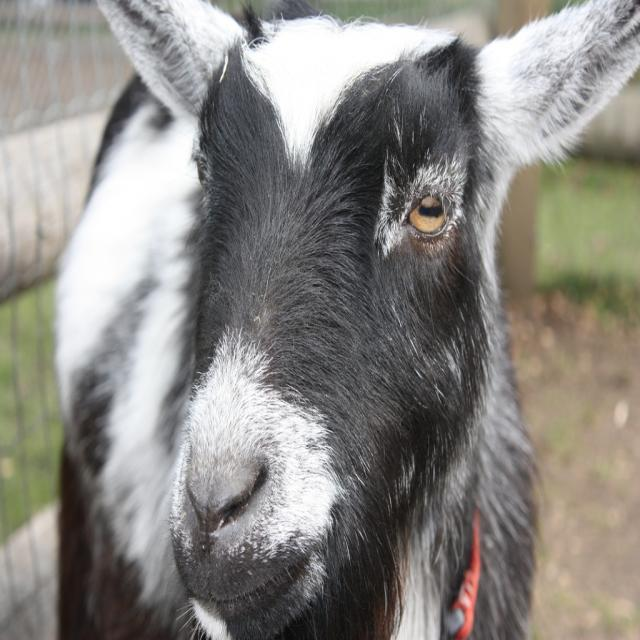Goat: (21, 0, 631, 640)
